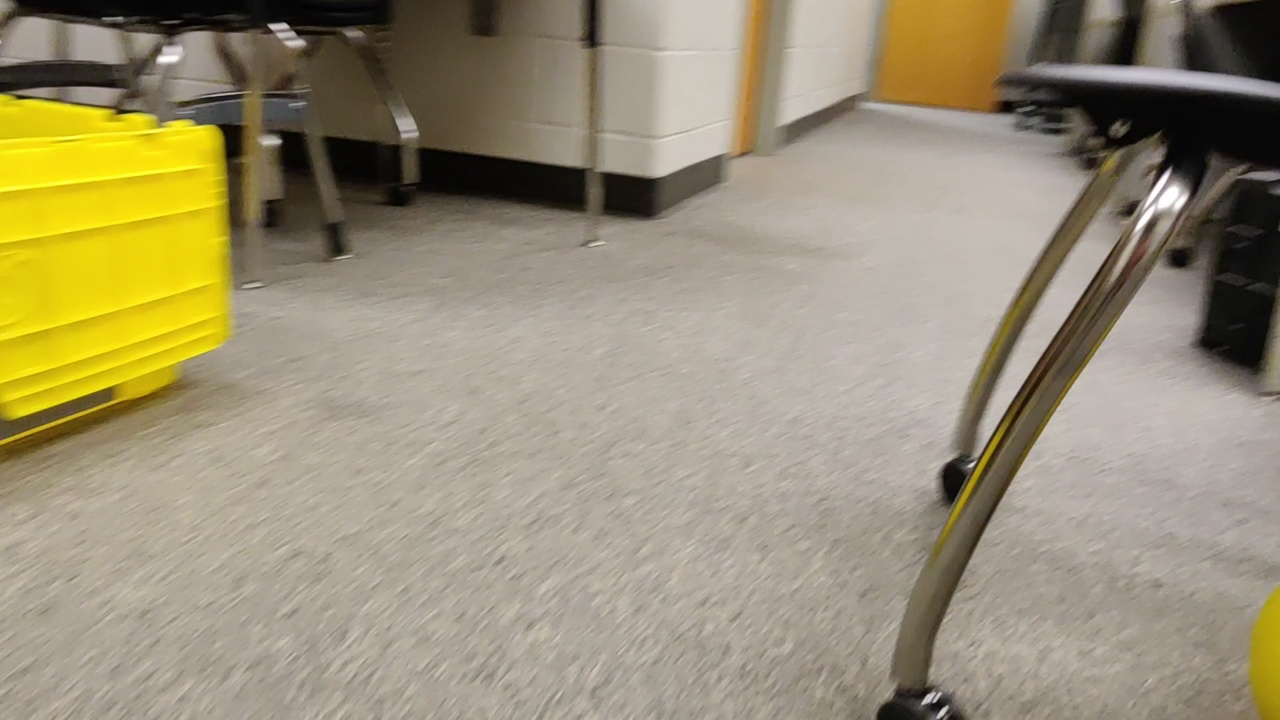Ball: (1251, 583, 1277, 720)
